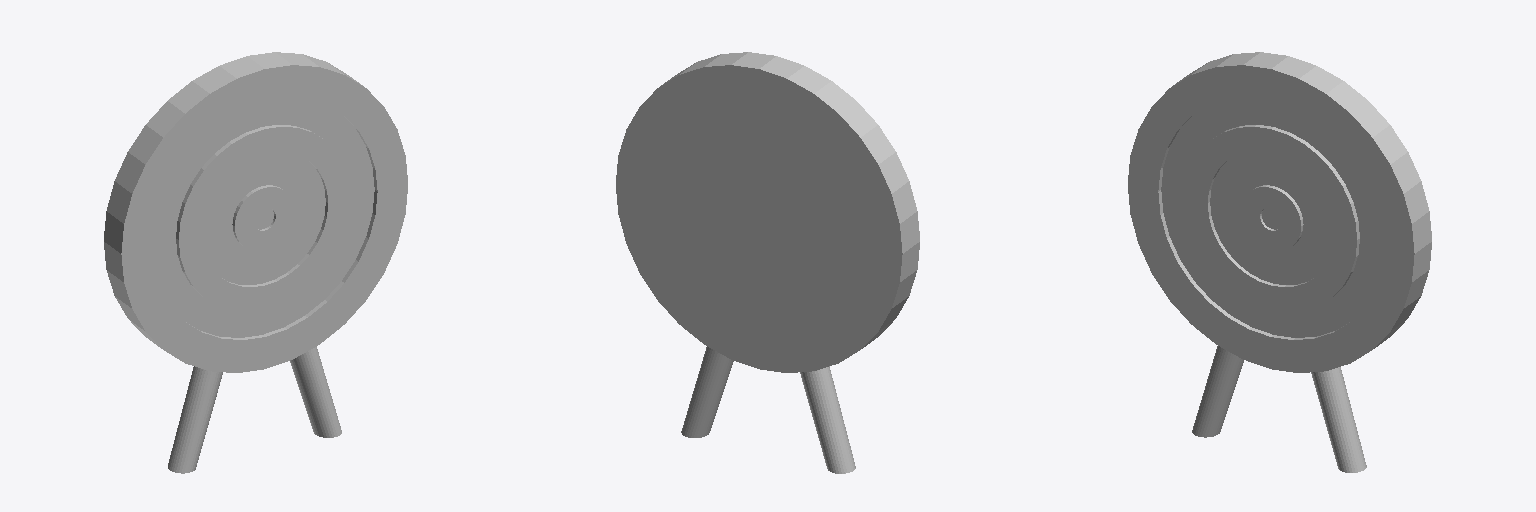
The model's file is target.obj.
3 renders of one model, left to right at view 1: azimuth 30°, elevation 25°; view 2: azimuth 150°, elevation 25°; view 3: azimuth 330°, elevation 25°, orthographic.
Parts seen in each view (by area): view 1: target_Circle.003; view 2: target_Circle.003; view 3: target_Circle.003.
Part boxes in pixels (x1,y1,x2,y2): target_Circle.003: (104,52,407,473); target_Circle.003: (616,52,919,473); target_Circle.003: (1128,52,1431,472).
Bounding box in the file's own units: 2 × 2.58 × 0.2149.